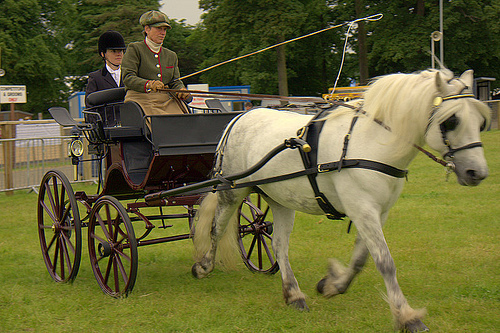horse: (189, 66, 491, 326)
